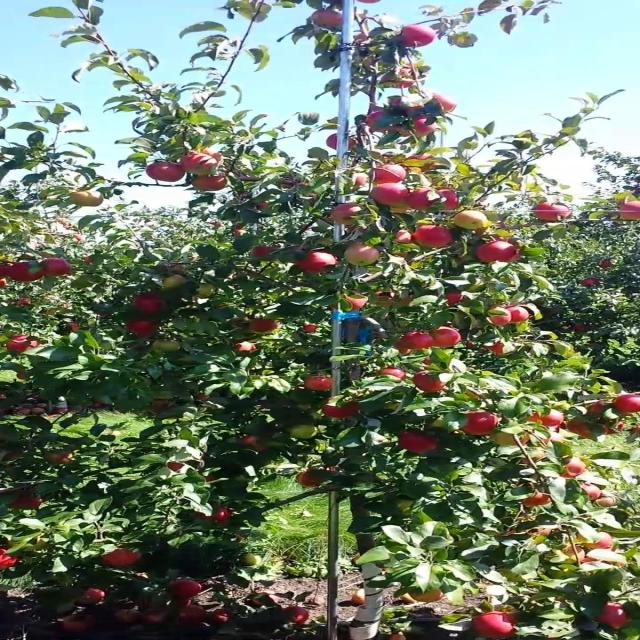apple: (468, 612, 519, 640), (575, 548, 628, 569), (476, 240, 521, 264), (412, 224, 455, 249), (461, 412, 503, 437), (397, 432, 441, 455), (340, 244, 384, 267), (397, 24, 439, 48), (532, 200, 574, 224), (298, 252, 341, 275), (596, 604, 633, 630), (369, 184, 412, 205), (99, 548, 142, 569), (319, 400, 363, 420), (369, 164, 411, 184), (177, 152, 217, 173), (412, 372, 448, 394), (134, 292, 165, 316), (148, 164, 185, 184), (70, 188, 107, 208), (575, 532, 613, 551), (497, 428, 533, 448), (547, 544, 583, 564), (454, 212, 491, 231), (397, 332, 434, 351), (404, 156, 443, 174), (326, 132, 361, 152), (532, 408, 567, 428), (433, 188, 462, 212), (170, 580, 206, 599), (42, 256, 75, 276), (13, 492, 46, 512), (312, 12, 348, 30), (340, 292, 370, 313), (127, 320, 162, 338), (6, 336, 43, 353), (198, 508, 235, 525), (13, 264, 44, 284), (298, 468, 329, 488), (362, 112, 391, 133), (376, 292, 414, 308), (248, 316, 283, 333), (433, 92, 460, 114), (191, 176, 228, 192), (333, 204, 364, 223), (433, 328, 462, 348), (412, 116, 441, 136), (412, 588, 448, 604), (518, 448, 548, 467), (305, 376, 340, 392), (568, 420, 596, 440), (561, 460, 588, 480), (611, 396, 639, 415), (412, 188, 434, 212), (248, 244, 279, 260), (241, 436, 270, 453), (525, 492, 555, 508), (198, 148, 228, 164), (511, 304, 535, 324), (291, 424, 320, 440), (397, 68, 420, 88), (42, 452, 76, 465), (618, 200, 639, 221), (490, 308, 512, 328), (376, 368, 407, 382), (483, 340, 507, 356), (582, 400, 606, 416), (540, 432, 567, 446), (156, 340, 185, 353), (596, 492, 619, 508), (604, 420, 626, 436), (511, 308, 533, 324), (163, 276, 190, 289), (582, 484, 603, 500), (148, 400, 176, 412), (198, 284, 220, 299), (447, 292, 468, 307), (397, 340, 416, 356), (390, 204, 414, 216), (404, 104, 428, 116), (234, 344, 260, 355), (390, 124, 412, 137), (390, 96, 409, 111), (6, 550, 21, 568), (163, 264, 187, 275), (241, 556, 263, 568), (397, 232, 416, 245), (6, 448, 25, 461), (170, 460, 188, 473), (191, 392, 213, 402), (390, 96, 407, 108), (355, 32, 372, 44), (355, 176, 370, 188), (319, 216, 340, 224), (319, 468, 343, 475), (305, 324, 320, 334), (205, 476, 220, 484), (419, 360, 436, 367), (70, 324, 84, 332), (8, 264, 14, 278), (20, 372, 30, 380)
